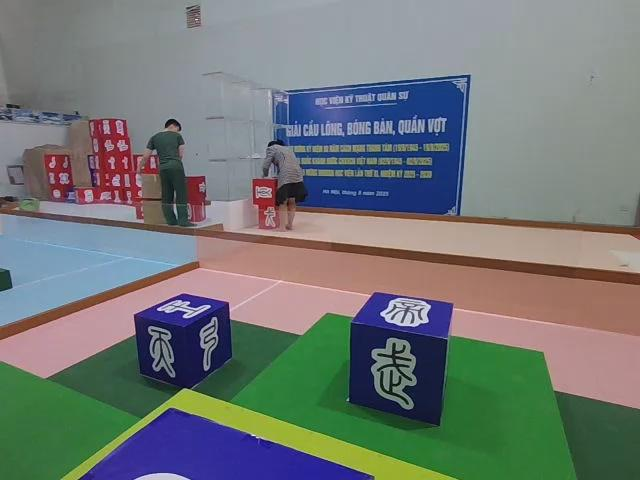R2 Fake Blue: (350, 294, 456, 430), (136, 293, 236, 389)
